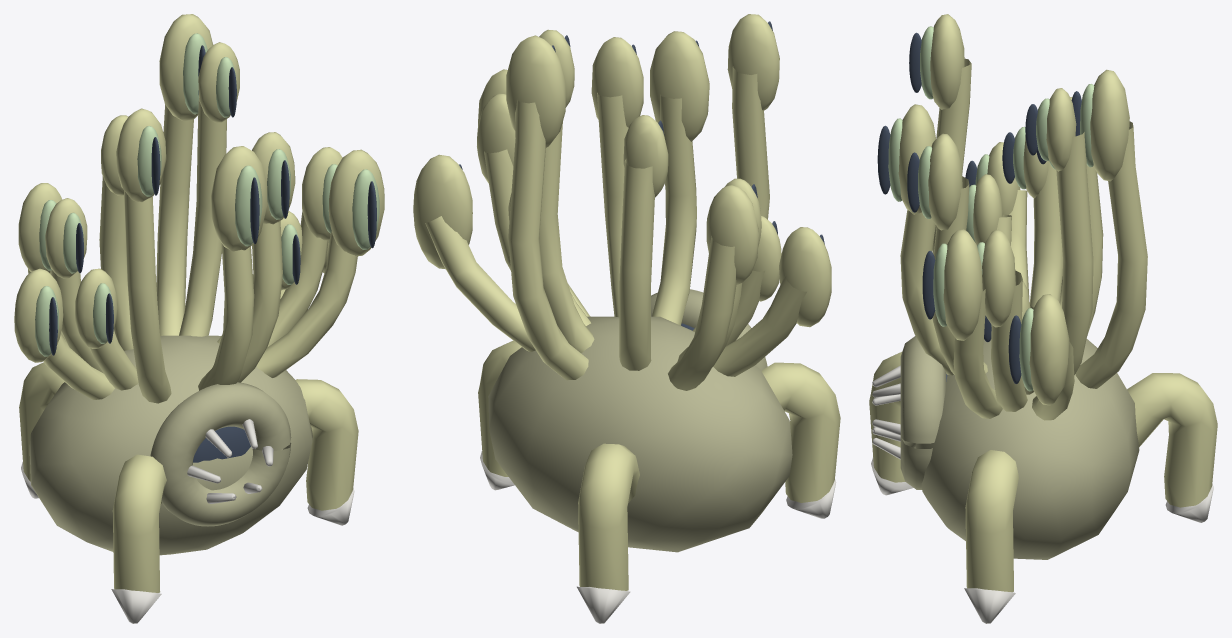
The model's file is bio_eye_orchard_10_far.glb.
3 views of the same model, side by side, from view 1: azimuth 30°, elevation 25°; view 2: azimuth 150°, elevation 25°; view 3: azimuth 270°, elevation 25° (orthographic). The views are drawn at different scales.
Parts seen in each view (by area): view 1: Rooted muscular caudex, Raised oral lip, Asymmetric ocular branch.011, Asymmetric ocular branch.007, Asymmetric ocular branch.005, Asymmetric ocular branch.002, Asymmetric ocular branch.003, Crooked support.001, Crooked support.002, Asymmetric ocular branch.010, Asymmetric ocular branch.013, Asymmetric ocular branch.006 (+22 smaller); view 2: Rooted muscular caudex, Asymmetric ocular branch.011, Asymmetric ocular branch.002, Asymmetric ocular branch.006, Asymmetric ocular branch.008, Asymmetric ocular branch.001, Crooked support, Asymmetric ocular branch.010, Asymmetric ocular branch.004, Asymmetric ocular branch.007, Crooked support.001, Asymmetric ocular branch.003 (+8 smaller); view 3: Rooted muscular caudex, Asymmetric ocular branch.011, Asymmetric ocular branch.003, Crooked support, Crooked support.002, Asymmetric ocular branch.005, Asymmetric ocular branch.002, Raised oral lip, Asymmetric ocular branch.013, Asymmetric ocular branch.008, Asymmetric ocular branch.007, Asymmetric ocular branch.010 (+23 smaller).
Boxes of the visible parts, <box> form: Rooted muscular caudex: <box>29,335,312,555</box>; Raised oral lip: <box>150,382,291,526</box>; Asymmetric ocular branch.011: <box>156,14,213,335</box>; Asymmetric ocular branch.007: <box>116,108,171,403</box>; Asymmetric ocular branch.005: <box>256,149,384,377</box>; Asymmetric ocular branch.002: <box>198,146,267,390</box>; Asymmetric ocular branch.003: <box>179,42,239,336</box>; Crooked support.001: <box>112,454,166,592</box>; Crooked support.002: <box>295,379,358,510</box>; Asymmetric ocular branch.010: <box>237,132,295,382</box>; Asymmetric ocular branch.013: <box>267,147,342,347</box>; Asymmetric ocular branch.006: <box>99,115,133,350</box>; Rooted muscular caudex: <box>488,316,792,552</box>; Asymmetric ocular branch.011: <box>506,35,588,380</box>; Asymmetric ocular branch.002: <box>650,31,709,325</box>; Asymmetric ocular branch.006: <box>619,115,668,370</box>; Asymmetric ocular branch.008: <box>413,154,535,352</box>; Asymmetric ocular branch.001: <box>668,185,758,390</box>; Crooked support: <box>578,443,639,590</box>; Asymmetric ocular branch.010: <box>591,37,643,317</box>; Asymmetric ocular branch.004: <box>713,227,831,376</box>; Asymmetric ocular branch.007: <box>693,14,779,331</box>; Crooked support.001: <box>761,362,840,502</box>; Asymmetric ocular branch.003: <box>539,29,594,352</box>; Rooted muscular caudex: <box>914,339,1139,559</box>; Asymmetric ocular branch.011: <box>1075,69,1147,388</box>; Asymmetric ocular branch.003: <box>1046,88,1093,374</box>; Crooked support: <box>1127,373,1217,507</box>; Crooked support.002: <box>965,450,1018,592</box>; Asymmetric ocular branch.005: <box>943,229,1002,418</box>; Asymmetric ocular branch.002: <box>898,104,953,375</box>; Raised oral lip: <box>900,336,946,489</box>; Asymmetric ocular branch.013: <box>982,229,1027,411</box>; Asymmetric ocular branch.008: <box>1029,294,1074,420</box>; Asymmetric ocular branch.007: <box>930,14,971,253</box>; Asymmetric ocular branch.010: <box>928,133,987,374</box>.
Bounding box in the file's own units: 1.71 × 2.19 × 1.37.
